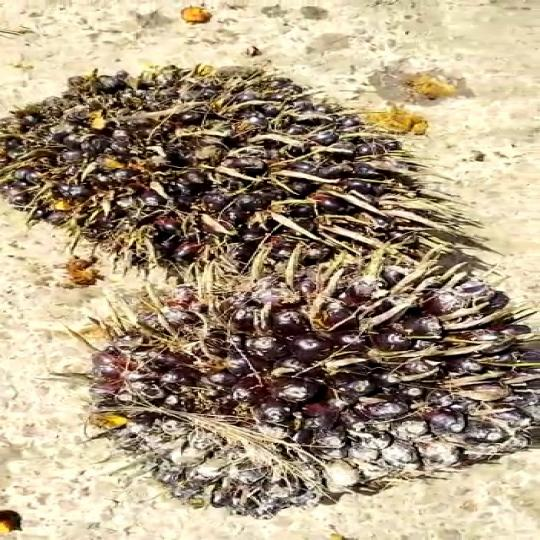mentah: (75, 258, 540, 524), (0, 56, 479, 266)
